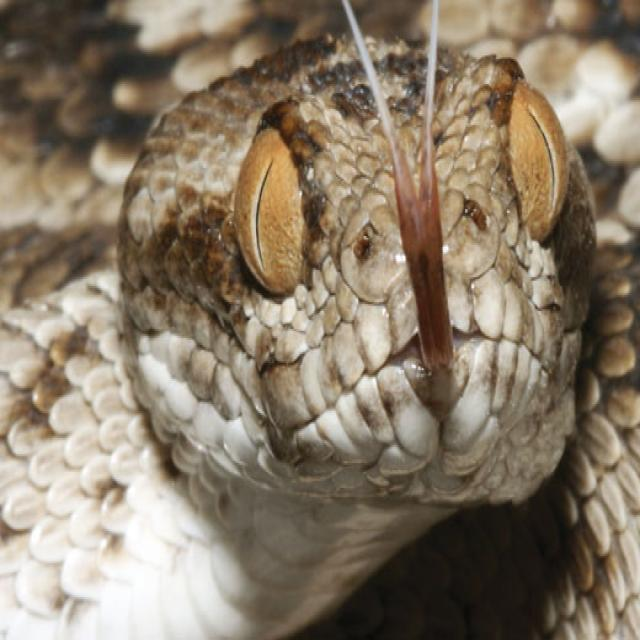Snake: (0, 16, 639, 638)
